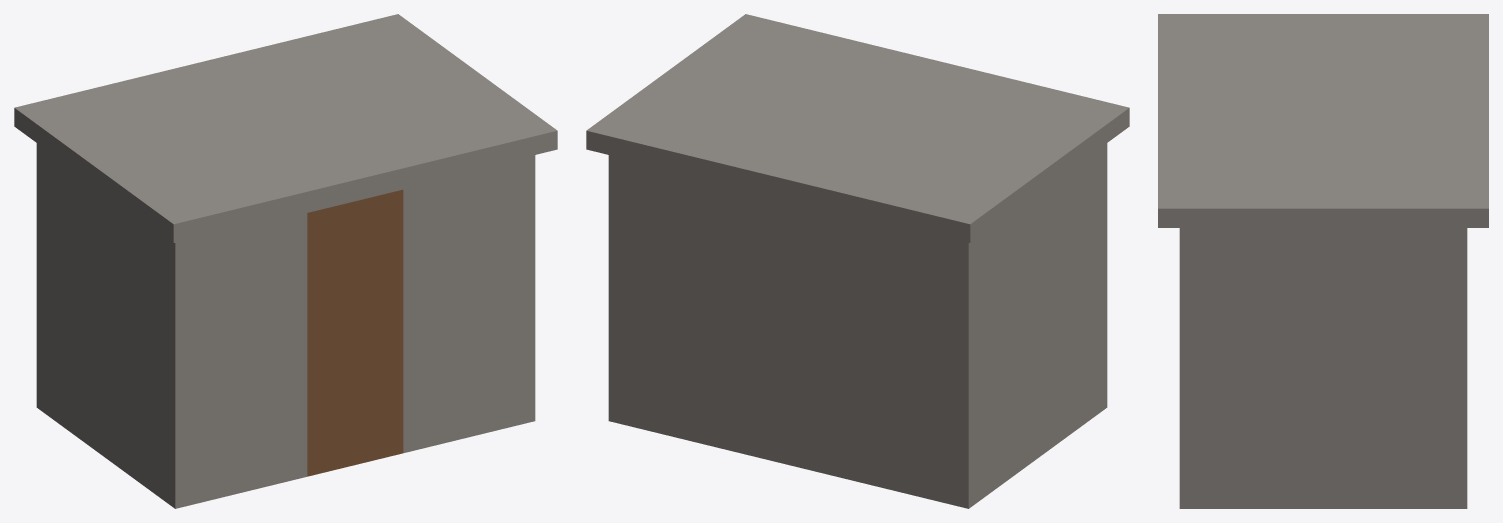
The model's file is shelter.fbx.
3 renders of one model, left to right at view 1: azimuth 30°, elevation 25°; view 2: azimuth 150°, elevation 25°; view 3: azimuth 270°, elevation 25°, orthographic. The views are drawn at different scales.
Parts seen in each view (by area): view 1: shelter; view 2: shelter; view 3: shelter.
Boxes of the visible parts, x1,y1,x2,y2 form: shelter: [14, 14, 557, 508]; shelter: [586, 14, 1129, 508]; shelter: [1158, 14, 1488, 508].
Size of the model in its own units: 3.2 by 2.35 by 2.3.
